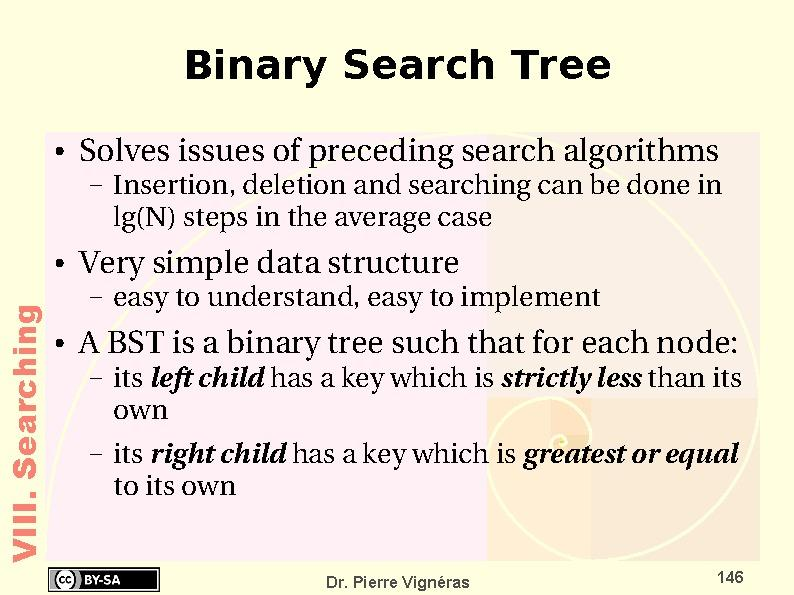paragraph: (49, 114, 774, 529)
title: (174, 27, 628, 96)
